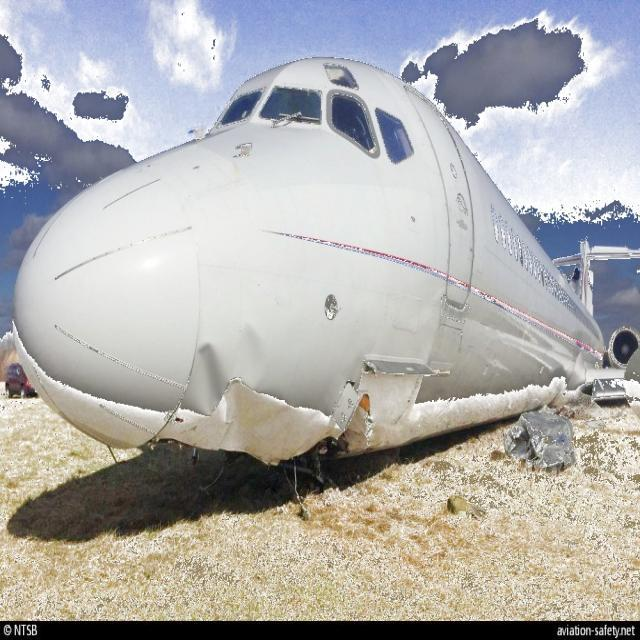dent: (193, 339, 227, 422), (235, 323, 269, 393)
